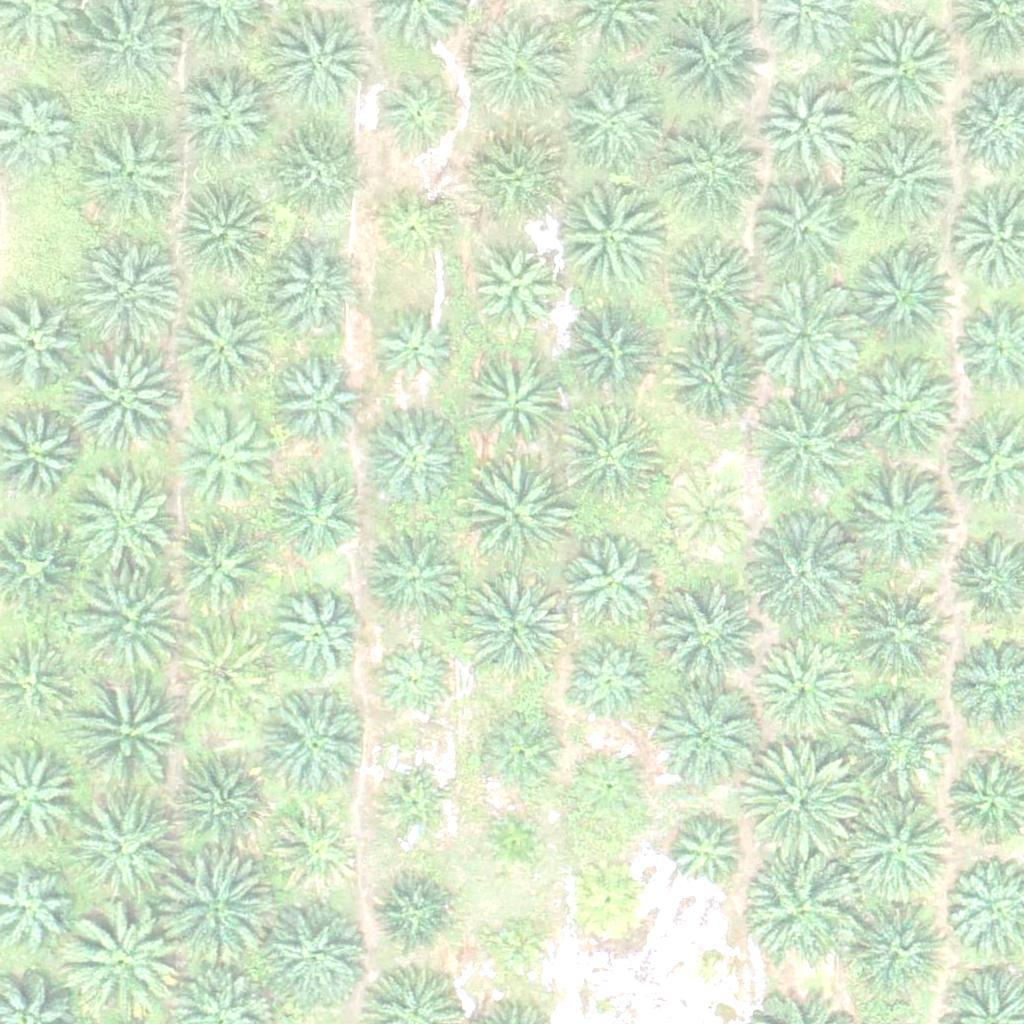Kelapa_Sawit: (76, 125, 189, 239), (63, 793, 176, 907), (746, 393, 859, 507), (72, 565, 185, 679), (69, 237, 182, 350), (547, 179, 660, 292), (846, 17, 959, 130), (749, 850, 862, 963), (839, 686, 952, 799), (746, 519, 859, 632), (456, 572, 569, 685), (457, 460, 570, 573), (66, 473, 179, 586), (72, 344, 185, 457), (842, 787, 954, 901), (744, 739, 856, 853), (74, 668, 186, 782), (263, 6, 375, 119), (467, 6, 579, 119), (656, 6, 768, 119), (747, 278, 859, 391), (848, 121, 960, 234), (65, 907, 177, 1020), (155, 855, 267, 968), (258, 896, 370, 1009), (555, 402, 667, 515), (257, 686, 369, 799), (653, 585, 765, 698), (648, 678, 760, 791), (180, 182, 280, 283), (180, 65, 280, 166), (264, 129, 364, 230), (269, 238, 369, 339), (479, 125, 579, 226), (561, 72, 661, 173), (552, 301, 652, 402), (655, 232, 755, 333), (665, 132, 765, 233), (756, 75, 856, 176), (854, 240, 954, 341), (755, 640, 855, 741), (560, 534, 660, 635), (464, 353, 564, 454), (362, 413, 462, 514), (364, 526, 464, 627), (266, 585, 366, 686), (172, 403, 272, 504), (169, 513, 269, 614), (176, 296, 276, 396), (749, 182, 849, 282), (170, 756, 270, 856), (853, 898, 953, 998), (854, 359, 954, 459), (854, 476, 954, 576), (846, 589, 946, 689), (656, 329, 756, 429), (175, 622, 275, 722), (564, 854, 652, 943), (373, 177, 461, 265), (373, 64, 461, 152), (468, 245, 556, 333), (564, 741, 652, 829), (665, 472, 753, 560), (369, 639, 457, 727), (272, 471, 360, 559), (271, 362, 359, 450), (566, 637, 653, 726), (368, 309, 455, 397), (272, 804, 359, 892), (371, 868, 458, 956), (660, 809, 747, 897), (475, 711, 562, 799), (475, 803, 550, 879), (479, 911, 554, 987), (381, 774, 456, 849)
